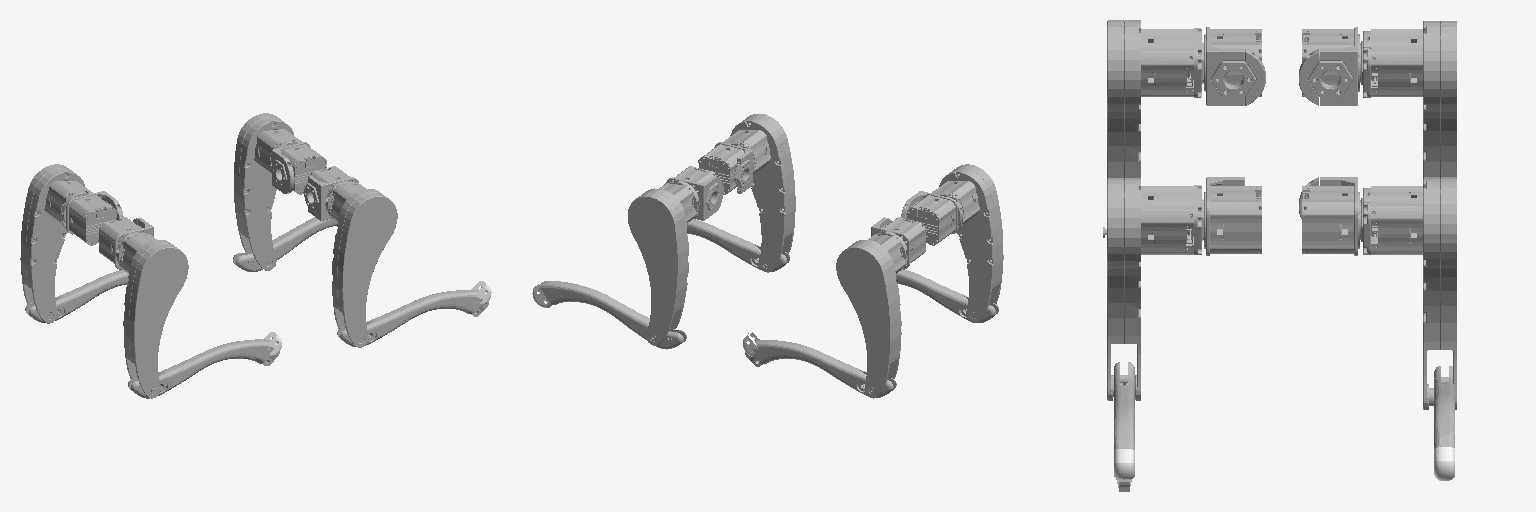
The robot description file, URDF, robot "HTDW_4438":
<?xml version="1.0" encoding="utf-8"?>
<!-- This URDF was automatically created by SolidWorks to URDF Exporter! Originally created by Stephen Brawner (brawner@gmail.com) 
     Commit Version: 1.6.0-4-g7f85cfe  Build Version: 1.6.7995.38578
     For more information, please see http://wiki.ros.org/sw_urdf_exporter -->
<robot name="HTDW_4438">
  <mujoco>
    <compiler meshdir="../meshes/" balanceinertia="true" discardvisual="false" />
  </mujoco>

  <link name="base_link">
    <inertial>
      <origin xyz="-0.00301327 0.00204115 -0.000635" rpy="0 0 0" />
      <mass value="2.74343032" />
      <inertia ixx="0.00588039" ixy="0.00048912" ixz="4.378e-05" iyy="0.01284666" iyz="-3.516e-05" izz="0.01600904" />
    </inertial>
    <visual>
      <origin xyz="0 0 0" rpy="0 0 0" />
      <geometry>
        <mesh filename="../meshes/base_link.STL" />
      </geometry>
      <material name="">
        <color rgba="0.752941176470588 0.752941176470588 0.752941176470588 1" />
      </material>
    </visual>
    <collision>
      <origin xyz="0 0 0" rpy="0 0 0" />
      <geometry>
        <mesh filename="../meshes/base_link.STL" />
      </geometry>
    </collision>
  </link>
  <link name="FL_hip">
    <inertial>
      <origin xyz="-0.00266064 0.00153194 -0.00011724" rpy="0 0 0" />
      <mass value="0.27079698" />
      <inertia ixx="2.36e-05" ixy="-8.3e-07" ixz="1.5e-07" iyy="3.433e-05" iyz="-3e-08" izz="3.58e-05" />
    </inertial>
    <visual>
      <origin xyz="0 0 0" rpy="0 0 0" />
      <geometry>
        <mesh filename="../meshes/FL_hip.STL" />
      </geometry>
      <material name="">
        <color rgba="0.752941176470588 0.752941176470588 0.752941176470588 1" />
      </material>
    </visual>
    <collision>
      <origin xyz="0 0 0" rpy="0 0 0" />
      <geometry>
        <mesh filename="../meshes/FL_hip.STL" />
      </geometry>
    </collision>
  </link>
  <joint name="FL_hip_joint" type="revolute">
    <origin xyz="0.14165 0.037 0" rpy="0 0 0" />
    <parent link="base_link" />
    <child link="FL_hip" />
    <axis xyz="1 0 0" />
    <limit lower="-1.05" upper="1.05" effort="10" velocity="9.5" />
  </joint>
  <link name="FL_thigh">
    <inertial>
      <origin xyz="-0.00360471 -0.01763227 -0.02190343" rpy="0 0 0" />
      <mass value="0.48086181" />
      <inertia ixx="0.00103502" ixy="2.935e-05" ixz="-8.603e-05" iyy="0.00094426" iyz="0.00018729" izz="0.00024889" />
    </inertial>
    <visual>
      <origin xyz="0 0 0" rpy="0 0 0" />
      <geometry>
        <mesh filename="../meshes/FL_thigh.STL" />
      </geometry>
      <material name="">
        <color rgba="0.752941176470588 0.752941176470588 0.752941176470588 1" />
      </material>
    </visual>
    <collision>
      <origin xyz="0 0 0" rpy="0 0 0" />
      <geometry>
        <mesh filename="../meshes/FL_thigh.STL" />
      </geometry>
    </collision>
  </link>
  <joint name="FL_thigh_joint" type="revolute">
    <origin xyz="0 0.0834 0" rpy="0 0 0" />
    <parent link="FL_hip" />
    <child link="FL_thigh" />
    <axis xyz="0 1 0" />
    <limit lower="-1.57" upper="3.49" effort="10" velocity="9.5" />
  </joint>
  <link name="FL_calf">
    <inertial>
      <origin xyz="0.01005013 3.13e-06 -0.05890115" rpy="0 0 0" />
      <mass value="0.06068055" />
      <inertia ixx="0.00021231" ixy="0.0" ixz="1.46e-05" iyy="0.00021592" iyz="-2e-08" izz="5.96e-06" />
    </inertial>
    <visual>
      <origin xyz="0 0 0" rpy="0 0 0" />
      <geometry>
        <mesh filename="../meshes/FL_calf.STL" />
      </geometry>
      <material name="">
        <color rgba="0.752941176470588 0.752941176470588 0.752941176470588 1" />
      </material>
    </visual>
    <collision>
      <origin xyz="0 0 0" rpy="0 0 0" />
      <geometry>
        <mesh filename="../meshes/FL_calf.STL" />
      </geometry>
    </collision>
  </link>
  <joint name="FL_calf_joint" type="revolute">
    <origin xyz="0 0.0035 -0.15" rpy="0 0 0" />
    <parent link="FL_thigh" />
    <child link="FL_calf" />
    <axis xyz="0 1 0" />
    <limit lower="-2.53" upper="-0.84" effort="10" velocity="9.5" />
  </joint>
  <link name="FL_foot">
    <inertial>
      <origin xyz="-0.00396275 0.0 -0.00314463" rpy="0 0 0" />
      <mass value="0.0049215" />
      <inertia ixx="3.6e-07" ixy="0.0" ixz="7e-08" iyy="4.6e-07" iyz="0.0" izz="3.3e-07" />
    </inertial>
    <visual>
      <origin xyz="0 0 0" rpy="0 0 0" />
      <geometry>
        <mesh filename="../meshes/FL_foot.STL" />
      </geometry>
      <material name="">
        <color rgba="1 1 1 1" />
      </material>
    </visual>
    <collision>
      <origin xyz="0 0 0" rpy="0 0 0" />
      <geometry>
         <sphere radius="0.02"/>
      </geometry>
    </collision>
  </link>
  <joint name="FL_foot_joint" type="fixed">
    <origin xyz="0 0 -0.15" rpy="0 0 0" />
    <parent link="FL_calf" />
    <child link="FL_foot" />
    <axis xyz="0 0 0" />
  </joint>
  <link name="FR_hip">
    <inertial>
      <origin xyz="-0.00266064 -0.00153194 0.00011724" rpy="0 0 0" />
      <mass value="0.27079698" />
      <inertia ixx="2.36e-05" ixy="8.3e-07" ixz="-1.5e-07" iyy="3.433e-05" iyz="-3e-08" izz="3.58e-05" />
    </inertial>
    <visual>
      <origin xyz="0 0 0" rpy="0 0 0" />
      <geometry>
        <mesh filename="../meshes/FR_hip.STL" />
      </geometry>
      <material name="">
        <color rgba="0.752941176470588 0.752941176470588 0.752941176470588 1" />
      </material>
    </visual>
    <collision>
      <origin xyz="0 0 0" rpy="0 0 0" />
      <geometry>
        <mesh filename="../meshes/FR_hip.STL" />
      </geometry>
    </collision>
  </link>
  <joint name="FR_hip_joint" type="revolute">
    <origin xyz="0.14165 -0.037 0" rpy="0 0 0" />
    <parent link="base_link" />
    <child link="FR_hip" />
    <axis xyz="1 0 0" />
    <limit lower="-1.05" upper="1.05" effort="10" velocity="9.5" />
  </joint>
  <link name="FR_thigh">
    <inertial>
      <origin xyz="-0.00559051 0.01763224 -0.02107369" rpy="0 0 0" />
      <mass value="0.48086142" />
      <inertia ixx="0.00101933" ixy="-4.59e-05" ixz="-0.00016158" iyy="0.00095262" iyz="-0.00017843" izz="0.00027294" />
    </inertial>
    <visual>
      <origin xyz="0 0 0" rpy="0 0 0" />
      <geometry>
        <mesh filename="../meshes/FR_thigh.STL" />
      </geometry>
      <material name="">
        <color rgba="0.752941176470588 0.752941176470588 0.752941176470588 1" />
      </material>
    </visual>
    <collision>
      <origin xyz="0 0 0" rpy="0 0 0" />
      <geometry>
        <mesh filename="../meshes/FR_thigh.STL" />
      </geometry>
    </collision>
  </link>
  <joint name="FR_thigh_joint" type="revolute">
    <origin xyz="0 -0.0834 0" rpy="0 0 0" />
    <parent link="FR_hip" />
    <child link="FR_thigh" />
    <axis xyz="0 1 0" />
    <limit lower="-1.57" upper="3.49" effort="10" velocity="9.5" />
  </joint>
  <link name="FR_calf">
    <inertial>
      <origin xyz="0.01005014 3.13e-06 -0.05890115" rpy="0 0 0" />
      <mass value="0.06068055" />
      <inertia ixx="0.00021231" ixy="0.0" ixz="1.46e-05" iyy="0.00021592" iyz="-2e-08" izz="5.96e-06" />
    </inertial>
    <visual>
      <origin xyz="0 0 0" rpy="0 0 0" />
      <geometry>
        <mesh filename="../meshes/FR_calf.STL" />
      </geometry>
      <material name="">
        <color rgba="0.752941176470588 0.752941176470588 0.752941176470588 1" />
      </material>
    </visual>
    <collision>
      <origin xyz="0 0 0" rpy="0 0 0" />
      <geometry>
        <mesh filename="../meshes/FR_calf.STL" />
      </geometry>
    </collision>
  </link>
  <joint name="FR_calf_joint" type="revolute">
    <origin xyz="0 0 -0.15" rpy="0 0 0" />
    <parent link="FR_thigh" />
    <child link="FR_calf" />
    <axis xyz="0 1 0" />
    <limit lower="-2.53" upper="-0.84" effort="10" velocity="9.5" />
  </joint>
  <link name="FR_foot">
    <inertial>
      <origin xyz="-0.00396275 0.0 -0.00314464" rpy="0 0 0" />
      <mass value="0.0049215" />
      <inertia ixx="3.6e-07" ixy="0.0" ixz="7e-08" iyy="4.6e-07" iyz="0.0" izz="3.3e-07" />
    </inertial>
    <visual>
      <origin xyz="0 0 0" rpy="0 0 0" />
      <geometry>
        <mesh filename="../meshes/FR_foot.STL" />
      </geometry>
      <material name="">
        <color rgba="1 1 1 1" />
      </material>
    </visual>
    <collision>
      <origin xyz="0 0 0" rpy="0 0 0" />
      <geometry>
         <sphere radius="0.02"/>
      </geometry>
    </collision>
  </link>
  <joint name="FR_foot_joint" type="fixed">
    <origin xyz="0 0 -0.15" rpy="0 0 0" />
    <parent link="FR_calf" />
    <child link="FR_foot" />
    <axis xyz="0 0 0" />
  </joint>
  <link name="RL_hip">
    <inertial>
      <origin xyz="0.00266064 0.00153194 0.00011724" rpy="0 0 0" />
      <mass value="0.27079698" />
      <inertia ixx="2.36e-05" ixy="8.3e-07" ixz="1.5e-07" iyy="3.433e-05" iyz="3e-08" izz="3.58e-05" />
    </inertial>
    <visual>
      <origin xyz="0 0 0" rpy="0 0 0" />
      <geometry>
        <mesh filename="../meshes/RL_hip.STL" />
      </geometry>
      <material name="">
        <color rgba="0.752941176470588 0.752941176470588 0.752941176470588 1" />
      </material>
    </visual>
    <collision>
      <origin xyz="0 0 0" rpy="0 0 0" />
      <geometry>
        <mesh filename="../meshes/RL_hip.STL" />
      </geometry>
    </collision>
  </link>
  <joint name="RL_hip_joint" type="revolute">
    <origin xyz="-0.14165 0.037 0" rpy="0 0 0" />
    <parent link="base_link" />
    <child link="RL_hip" />
    <axis xyz="1 0 0" />
    <limit lower="-1.05" upper="1.05" effort="10" velocity="9.5" />
  </joint>
  <link name="RL_thigh">
    <inertial>
      <origin xyz="-0.00555466 -0.01763227 -0.02101551" rpy="0 0 0" />
      <mass value="0.48086181" />
      <inertia ixx="0.00102307" ixy="4.602e-05" ixz="-0.00015399" iyy="0.00095399" iyz="0.00018026" izz="0.00027057" />
    </inertial>
    <visual>
      <origin xyz="0 0 0" rpy="0 0 0" />
      <geometry>
        <mesh filename="../meshes/RL_thigh.STL" />
      </geometry>
      <material name="">
        <color rgba="0.752941176470588 0.752941176470588 0.752941176470588 1" />
      </material>
    </visual>
    <collision>
      <origin xyz="0 0 0" rpy="0 0 0" />
      <geometry>
        <mesh filename="../meshes/RL_thigh.STL" />
      </geometry>
    </collision>
  </link>
  <joint name="RL_thigh_joint" type="revolute">
    <origin xyz="0 0.0834 0" rpy="0 0 0" />
    <parent link="RL_hip" />
    <child link="RL_thigh" />
    <axis xyz="0 1 0" />
    <limit lower="-1.57" upper="3.49" effort="10" velocity="9.5" />
  </joint>
  <link name="RL_calf">
    <inertial>
      <origin xyz="0.01005013 3.13e-06 -0.05890115" rpy="0 0 0" />
      <mass value="0.06068055" />
      <inertia ixx="0.00021231" ixy="0.0" ixz="1.46e-05" iyy="0.00021592" iyz="-2e-08" izz="5.96e-06" />
    </inertial>
    <visual>
      <origin xyz="0 0 0" rpy="0 0 0" />
      <geometry>
        <mesh filename="../meshes/RL_calf.STL" />
      </geometry>
      <material name="">
        <color rgba="0.752941176470588 0.752941176470588 0.752941176470588 1" />
      </material>
    </visual>
    <collision>
      <origin xyz="0 0 0" rpy="0 0 0" />
      <geometry>
        <mesh filename="../meshes/RL_calf.STL" />
      </geometry>
    </collision>
  </link>
  <joint name="RL_calf_joint" type="revolute">
    <origin xyz="0 0 -0.15" rpy="0 0 0" />
    <parent link="RL_thigh" />
    <child link="RL_calf" />
    <axis xyz="0 1 0" />
    <limit lower="-2.53" upper="-0.84" effort="10" velocity="9.5" />
  </joint>
  <link name="RL_foot">
    <inertial>
      <origin xyz="-0.00396275 0.0 -0.00314463" rpy="0 0 0" />
      <mass value="0.0049215" />
      <inertia ixx="3.6e-07" ixy="0.0" ixz="7e-08" iyy="4.6e-07" iyz="0.0" izz="3.3e-07" />
    </inertial>
    <visual>
      <origin xyz="0 0 0" rpy="0 0 0" />
      <geometry>
        <mesh filename="../meshes/RL_foot.STL" />
      </geometry>
      <material name="">
        <color rgba="1 1 1 1" />
      </material>
    </visual>
    <collision>
      <origin xyz="0 0 0" rpy="0 0 0" />
      <geometry>
         <sphere radius="0.02"/>
      </geometry>
    </collision>
  </link>
  <joint name="RL_foot_joint" type="fixed">
    <origin xyz="0 0 -0.15" rpy="0 0 0" />
    <parent link="RL_calf" />
    <child link="RL_foot" />
    <axis xyz="0 0 0" />
  </joint>
  <link name="RR_hip">
    <inertial>
      <origin xyz="0.00266064 -0.00153194 -0.00011724" rpy="0 0 0" />
      <mass value="0.27079698" />
      <inertia ixx="2.36e-05" ixy="-8.3e-07" ixz="-1.5e-07" iyy="3.433e-05" iyz="3e-08" izz="3.58e-05" />
    </inertial>
    <visual>
      <origin xyz="0 0 0" rpy="0 0 0" />
      <geometry>
        <mesh filename="../meshes/RR_hip.STL" />
      </geometry>
      <material name="">
        <color rgba="0.752941176470588 0.752941176470588 0.752941176470588 1" />
      </material>
    </visual>
    <collision>
      <origin xyz="0 0 0" rpy="0 0 0" />
      <geometry>
        <mesh filename="../meshes/RR_hip.STL" />
      </geometry>
    </collision>
  </link>
  <joint name="RR_hip_joint" type="revolute">
    <origin xyz="-0.14165 -0.037 0" rpy="0 0 0" />
    <parent link="base_link" />
    <child link="RR_hip" />
    <axis xyz="1 0 0" />
    <limit lower="-1.05" upper="1.05" effort="10" velocity="9.5" />
  </joint>
  <link name="RR_thigh">
    <inertial>
      <origin xyz="-0.00521957 0.01761785 -0.02116423" rpy="0 0 0" />
      <mass value="0.48086142" />
      <inertia ixx="0.00102378" ixy="-4.288e-05" ixz="-0.00015179" iyy="0.00095271" iyz="-0.00018005" izz="0.00026924" />
    </inertial>
    <visual>
      <origin xyz="0 0 0" rpy="0 0 0" />
      <geometry>
        <mesh filename="../meshes/RR_thigh.STL" />
      </geometry>
      <material name="">
        <color rgba="0.752941176470588 0.752941176470588 0.752941176470588 1" />
      </material>
    </visual>
    <collision>
      <origin xyz="0 0 0" rpy="0 0 0" />
      <geometry>
        <mesh filename="../meshes/RR_thigh.STL" />
      </geometry>
    </collision>
  </link>
  <joint name="RR_thigh_joint" type="revolute">
    <origin xyz="0 -0.0834 0" rpy="0 0 0" />
    <parent link="RR_hip" />
    <child link="RR_thigh" />
    <axis xyz="0 1 0" />
    <limit lower="-1.57" upper="3.49" effort="10" velocity="9.5" />
  </joint>
  <link name="RR_calf">
    <inertial>
      <origin xyz="0.01005013 3.13e-06 -0.05890115" rpy="0 0 0" />
      <mass value="0.06068055" />
      <inertia ixx="0.00021231" ixy="0.0" ixz="1.46e-05" iyy="0.00021592" iyz="-2e-08" izz="5.96e-06" />
    </inertial>
    <visual>
      <origin xyz="0 0 0" rpy="0 0 0" />
      <geometry>
        <mesh filename="../meshes/RR_calf.STL" />
      </geometry>
      <material name="">
        <color rgba="0.752941176470588 0.752941176470588 0.752941176470588 1" />
      </material>
    </visual>
    <collision>
      <origin xyz="0 0 0" rpy="0 0 0" />
      <geometry>
        <mesh filename="../meshes/RR_calf.STL" />
      </geometry>
    </collision>
  </link>
  <joint name="RR_calf_joint" type="revolute">
    <origin xyz="0 0 -0.15" rpy="0 0 0" />
    <parent link="RR_thigh" />
    <child link="RR_calf" />
    <axis xyz="0 1 0" />
    <limit lower="-2.53" upper="-0.84" effort="10" velocity="9.5" />
  </joint>
  <link name="RR_foot">
    <inertial>
      <origin xyz="-0.00396275 0.0 -0.00314463" rpy="0 0 0" />
      <mass value="0.0049215" />
      <inertia ixx="3.6e-07" ixy="0.0" ixz="7e-08" iyy="4.6e-07" iyz="0.0" izz="3.3e-07" />
    </inertial>
    <visual>
      <origin xyz="0 0 0" rpy="0 0 0" />
      <geometry>
        <mesh filename="../meshes/RR_foot.STL" />
      </geometry>
      <material name="">
        <color rgba="1 1 1 1" />
      </material>
    </visual>
    <collision>
      <origin xyz="0 0 0" rpy="0 0 0" />
      <geometry>
         <sphere radius="0.02"/>
      </geometry>
    </collision>
  </link>
  <joint name="RR_foot_joint" type="fixed">
    <origin xyz="0 0 -0.15" rpy="0 0 0" />
    <parent link="RR_calf" />
    <child link="RR_foot" />
    <axis xyz="0 0 0" />
  </joint>
</robot>

--- What the picture shows (computed from the rendered views, not written in the file) ---
Views: 3 orthographic renders of the robot side by side, from view 1: azimuth 30°, elevation 25°; view 2: azimuth 150°, elevation 25°; view 3: azimuth 270°, elevation 25°.
Model HTDW_4438 with 17 links and 16 joints (12 revolute, 4 fixed), rooted at base_link, posed joints at zero except 4 at the middle of their limits (FL_calf_joint = -1.69, FR_calf_joint = -1.69, RL_calf_joint = -1.69, RR_calf_joint = -1.69).
Links seen in each view (by area): view 1: FR_thigh, RR_thigh, RL_thigh, FL_thigh, RR_calf, FR_calf, RL_hip, FL_hip, RL_calf, FL_calf, FR_hip, RR_hip; view 2: RL_thigh, FL_thigh, RR_thigh, FR_thigh, FL_calf, RL_calf, RR_hip, FR_hip, FR_calf, RR_calf, FL_hip, RL_hip; view 3: FL_thigh, FR_thigh, RR_thigh, RL_thigh, RL_hip, FL_hip, RR_hip, FR_hip, FR_calf, FL_calf, FL_foot, FR_foot.
Boxes of the visible links, x1,y1,x2,y2 form: FR_thigh: (325,182,397,347); RR_thigh: (116,233,188,398); RL_thigh: (20,164,92,323); FL_thigh: (234,113,301,270); RR_calf: (128,339,279,398); FR_calf: (337,290,488,346); RL_hip: (66,191,123,245); FL_hip: (272,142,326,194); RL_calf: (25,270,128,322); FL_calf: (233,217,337,271); FR_hip: (303,166,358,220); RR_hip: (98,217,153,269); RL_thigh: (836,231,907,398); FL_thigh: (628,180,699,345); RR_thigh: (932,164,1003,322); FR_thigh: (723,114,795,272); FL_calf: (538,281,686,349); RL_calf: (745,340,896,397); RR_hip: (901,191,957,245); FR_hip: (698,142,752,194); FR_calf: (687,219,789,271); RR_calf: (896,269,998,322); FL_hip: (666,166,723,220); RL_hip: (871,217,925,269); FL_thigh: (1361,177,1456,409); FR_thigh: (1107,178,1203,400); RR_thigh: (1103,20,1203,237); RL_thigh: (1361,21,1456,177); RL_hip: (1299,27,1360,105); FL_hip: (1299,177,1360,255); RR_hip: (1204,27,1265,105); FR_hip: (1204,177,1261,255); FR_calf: (1113,362,1134,491); FL_calf: (1434,366,1454,450); FL_foot: (1434,447,1454,480); FR_foot: (1114,449,1134,479).
Bounding box of the posed robot: 0.4901 × 0.2703 × 0.1965 m (x, y, z).
Meshes: 17 distinct files referenced, 16 mesh visuals loaded (16 binary STL); not drawn: 1 (reference not matched to a file when rendering).
